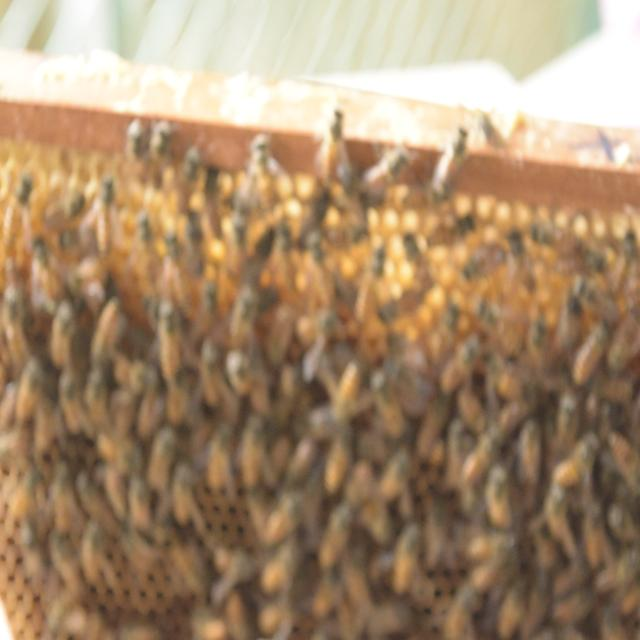honeybee: (365, 140, 416, 201), (331, 460, 375, 529), (290, 185, 334, 251), (0, 285, 35, 367), (354, 245, 390, 324), (170, 537, 212, 604), (551, 433, 601, 489), (329, 353, 366, 428), (433, 123, 472, 194), (0, 171, 35, 250), (468, 538, 518, 593), (503, 219, 539, 295), (249, 133, 284, 211), (316, 98, 348, 182), (473, 298, 522, 351), (441, 334, 480, 400), (160, 233, 194, 308), (317, 505, 354, 572), (571, 321, 609, 386), (609, 217, 640, 296), (51, 528, 85, 600), (19, 524, 52, 597), (5, 469, 44, 530), (31, 236, 62, 312), (262, 538, 304, 594), (606, 428, 640, 497), (157, 300, 186, 380), (262, 490, 302, 548), (66, 248, 106, 306), (306, 232, 337, 306), (520, 569, 552, 640), (530, 208, 584, 250), (91, 174, 120, 252), (610, 296, 640, 371), (576, 270, 620, 321), (323, 429, 358, 492), (372, 372, 408, 433), (94, 296, 124, 365), (202, 164, 228, 243), (485, 461, 512, 537), (407, 227, 438, 293), (428, 304, 462, 364), (37, 191, 89, 230), (428, 208, 480, 247), (555, 584, 598, 631), (378, 286, 426, 328), (203, 427, 234, 492), (341, 549, 372, 614), (121, 116, 148, 190), (462, 432, 499, 486), (79, 518, 107, 588), (393, 525, 420, 597), (239, 228, 276, 280), (118, 354, 159, 400), (44, 606, 99, 640), (78, 468, 109, 528), (496, 576, 525, 640), (518, 420, 546, 486), (256, 601, 307, 637), (174, 143, 201, 211), (488, 349, 524, 400), (52, 457, 76, 532), (200, 338, 224, 413), (149, 430, 178, 492), (86, 368, 112, 437), (549, 250, 613, 278), (52, 296, 76, 370), (297, 304, 339, 346), (98, 436, 142, 476), (240, 414, 263, 490), (494, 401, 540, 439), (419, 402, 448, 462), (145, 118, 173, 180), (558, 290, 584, 356), (383, 442, 413, 499), (602, 369, 640, 414), (170, 462, 195, 530), (132, 211, 154, 288), (462, 242, 504, 282), (112, 379, 139, 441), (446, 587, 478, 639), (16, 358, 42, 422), (200, 274, 226, 337), (285, 434, 315, 488), (264, 428, 290, 490), (528, 310, 554, 370), (121, 530, 158, 572), (312, 567, 342, 617), (464, 531, 517, 559), (271, 300, 296, 358), (448, 420, 468, 492), (460, 388, 489, 437), (583, 501, 605, 565), (139, 389, 166, 441), (226, 287, 251, 343), (556, 392, 577, 458), (186, 208, 206, 276), (62, 374, 84, 435), (248, 357, 270, 417), (428, 505, 447, 569), (168, 373, 190, 428), (232, 206, 248, 276), (226, 592, 249, 640), (229, 350, 252, 397), (132, 480, 152, 530), (193, 607, 223, 640), (602, 603, 628, 640), (586, 384, 604, 434), (259, 283, 283, 317), (122, 622, 161, 640)
